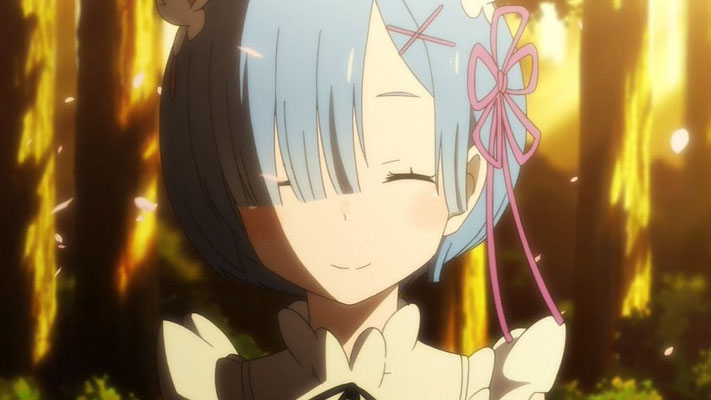rem: (142, 2, 564, 400)
